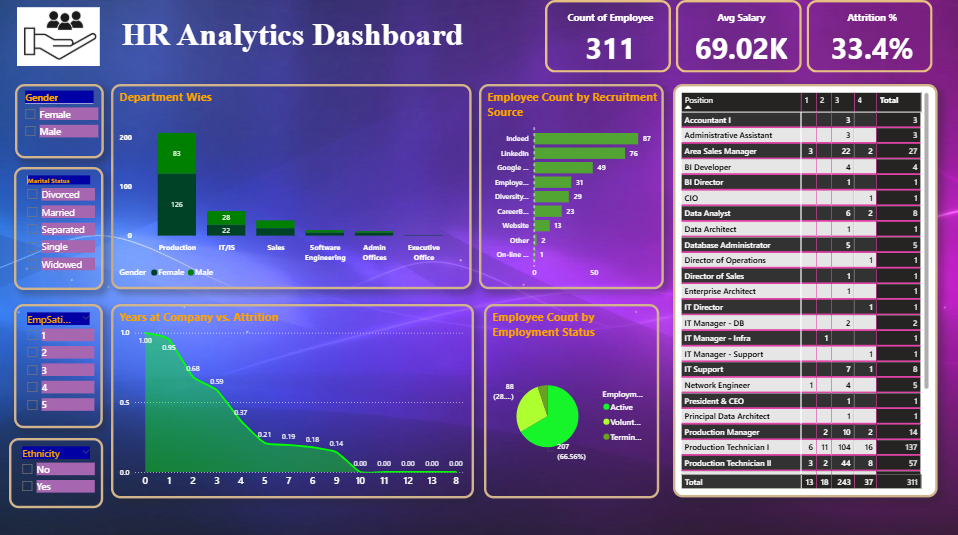

Layout of this report page (visuals, bound fields, positions):
{"tool":"powerbi","page":{"name":"Page 1","canvas":[1600,900],"ordinal":0},"visuals":[{"type":"columnChart","title":"Department Wies","fields":{"Category":["HRDataset_v14.Department"],"Y":["CountNonNull(HRDataset_v14.Employee_Name)"],"Series":["HRDataset_v14.New_GenderID"]},"box":[187.2,145.8,601.2,342],"z":0},{"type":"areaChart","title":"Years at Company vs. Attrition","fields":{"Category":["HRDataset_v14.Year at Company"],"Y":["HRDataset_v14.Attrition Count"]},"box":[187.2,511.2,604.8,324],"z":1000},{"type":"barChart","title":"Employee Count by Recruitment Source","fields":{"Category":["HRDataset_v14.RecruitmentSource"],"Y":["CountNonNull(HRDataset_v14.Employee_Name)"]},"box":[799.2,145.8,307.8,342],"z":2000},{"type":"textbox","box":[199.8,27,664.2,75.6],"z":3000},{"type":"pieChart","title":"Employee Count by Employment Status","fields":{"Y":["CountNonNull(HRDataset_v14.Employee_Name)"],"Category":["HRDataset_v14.EmploymentStatus"]},"box":[808.2,511.2,291.6,324],"z":4000},{"type":"slicer","fields":{"Values":["HRDataset_v14.New_GenderID"]},"box":[27,145.8,147.6,124.2],"z":5000},{"type":"slicer","fields":{"Values":["HRDataset_v14.MaritalDesc"]},"box":[25.2,282.6,149.4,205.2],"z":6000},{"type":"slicer","fields":{"Values":["HRDataset_v14.EmpSatisfaction"]},"box":[25.2,511.2,147.6,207],"z":7000},{"type":"slicer","fields":{"Values":["HRDataset_v14.HispanicLatino"]},"box":[16.2,734.4,156.6,117],"z":8000},{"type":"cardVisual","fields":{"Data":["HRDataset_v14.Countofemp","HRDataset_v14.Avg_Salary","HRDataset_v14.Attrition %"]},"box":[905.4,0,658.8,131.4],"z":9000},{"type":"pivotTable","fields":{"Rows":["HRDataset_v14.Position"],"Values":["HRDataset_v14.Countofemp"],"Columns":["HRDataset_v14.PerfScoreID"]},"box":[1123.2,145.8,441,689.4],"z":10000},{"type":"image","box":[25.2,0,147.6,131.4],"z":11000}]}

Visuals, with their boxes in screenshot pixels (x1, y1, x2, y2), scaled from the page's 1600x900 canvas onto the 958x535 screenshot:
"Department Wies" columnChart: l=112, t=87, r=472, b=290
"Years at Company vs. Attrition" areaChart: l=112, t=304, r=474, b=496
"Employee Count by Recruitment Source" barChart: l=479, t=87, r=663, b=290
textbox: l=120, t=16, r=517, b=61
"Employee Count by Employment Status" pieChart: l=484, t=304, r=659, b=496
slicer - HRDataset_v14.New_GenderID: l=16, t=87, r=105, b=160
slicer - HRDataset_v14.MaritalDesc: l=15, t=168, r=105, b=290
slicer - HRDataset_v14.EmpSatisfaction: l=15, t=304, r=103, b=427
slicer - HRDataset_v14.HispanicLatino: l=10, t=437, r=103, b=506
cardVisual - HRDataset_v14.Countofemp x HRDataset_v14.Avg_Salary: l=542, t=0, r=937, b=78
pivotTable - HRDataset_v14.Position x HRDataset_v14.Countofemp: l=673, t=87, r=937, b=496
image: l=15, t=0, r=103, b=78
